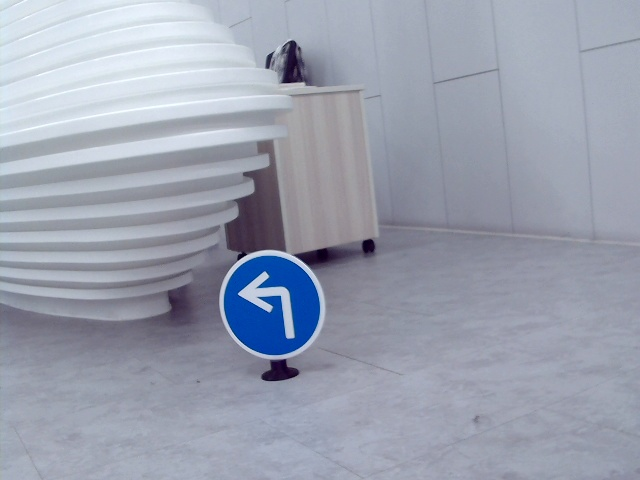turn_left: (238, 269, 300, 338)
